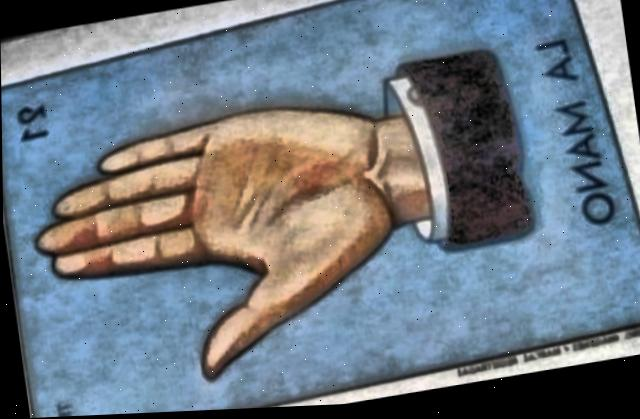La Mano: (1, 0, 640, 418)
